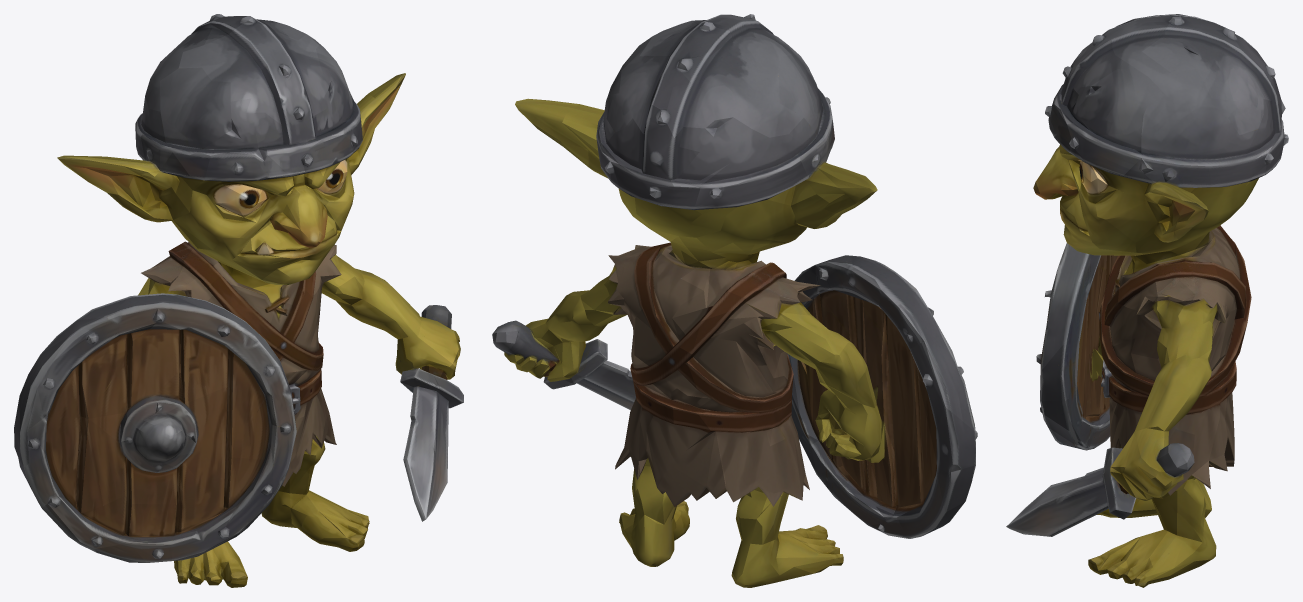
The model's file is Goblin_Shield.fbx.
The picture shows the model from 3 angles, left to right: view 1: azimuth 30°, elevation 25°; view 2: azimuth 150°, elevation 25°; view 3: azimuth 270°, elevation 25°; orthographic projection. The views are drawn at different scales.
Parts seen in each view (by area): view 1: output_unwrapped; view 2: output_unwrapped; view 3: output_unwrapped.
Part boxes in pixels (x1=…): output_unwrapped: x1=14, y1=14, x2=463, y2=587; output_unwrapped: x1=492, y1=14, x2=977, y2=587; output_unwrapped: x1=1006, y1=14, x2=1288, y2=587.
Bounding box in the file's own units: 170 × 190 × 93.04.
Materials: 1 (1 with a texture image).
